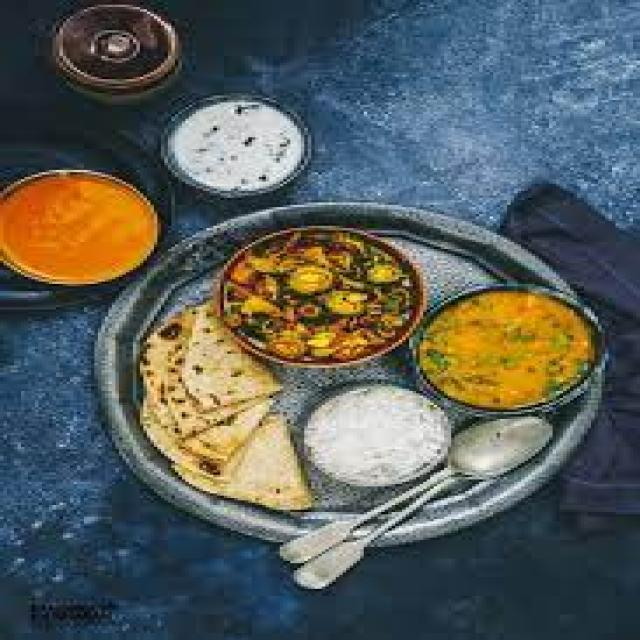curd: (154, 95, 323, 204), (439, 415, 569, 482)
dal: (421, 288, 593, 401)
rice: (289, 383, 460, 499)
roti: (137, 303, 323, 523)
veg-fry: (232, 232, 420, 367)
